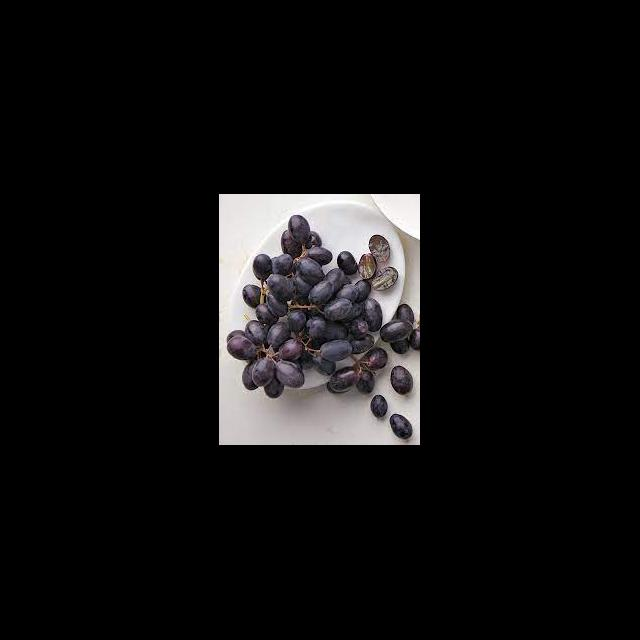grape: (226, 215, 419, 440)
